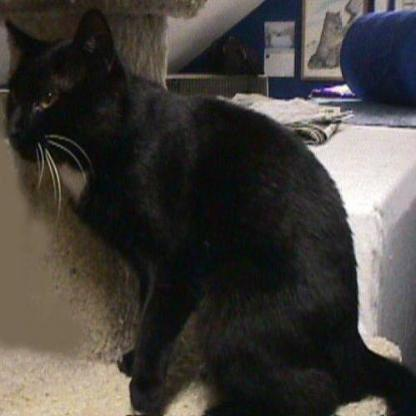cat: (15, 13, 369, 413)
